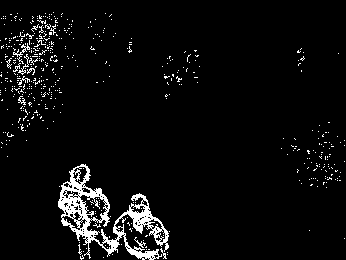person: (57, 164, 118, 257), (115, 192, 172, 260)
